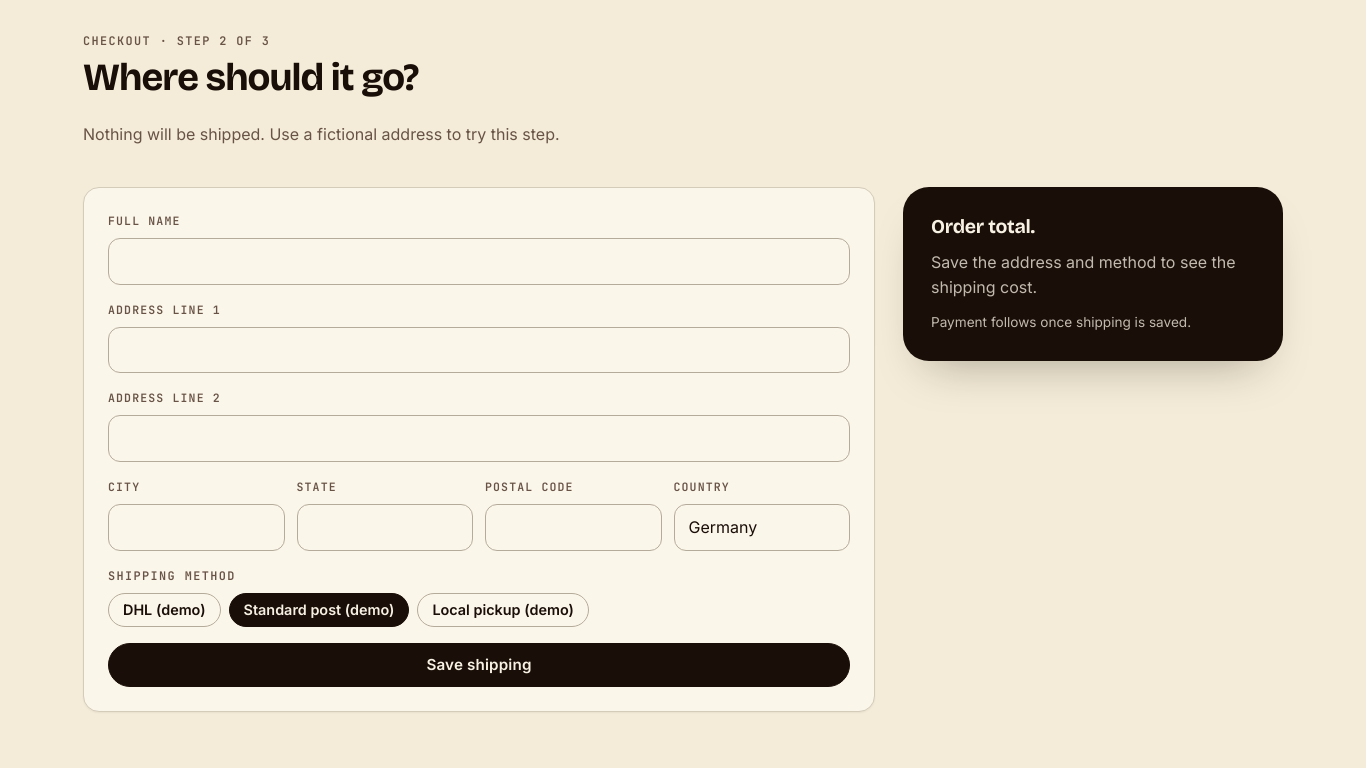
Test: shipping operation identity › does not execute A's second shipping request as B
The image size is (1366, 768).
Type "Demo Buyer" into the field labelled "Full name". click: (479, 261)
box: 108,238 -> 850,285
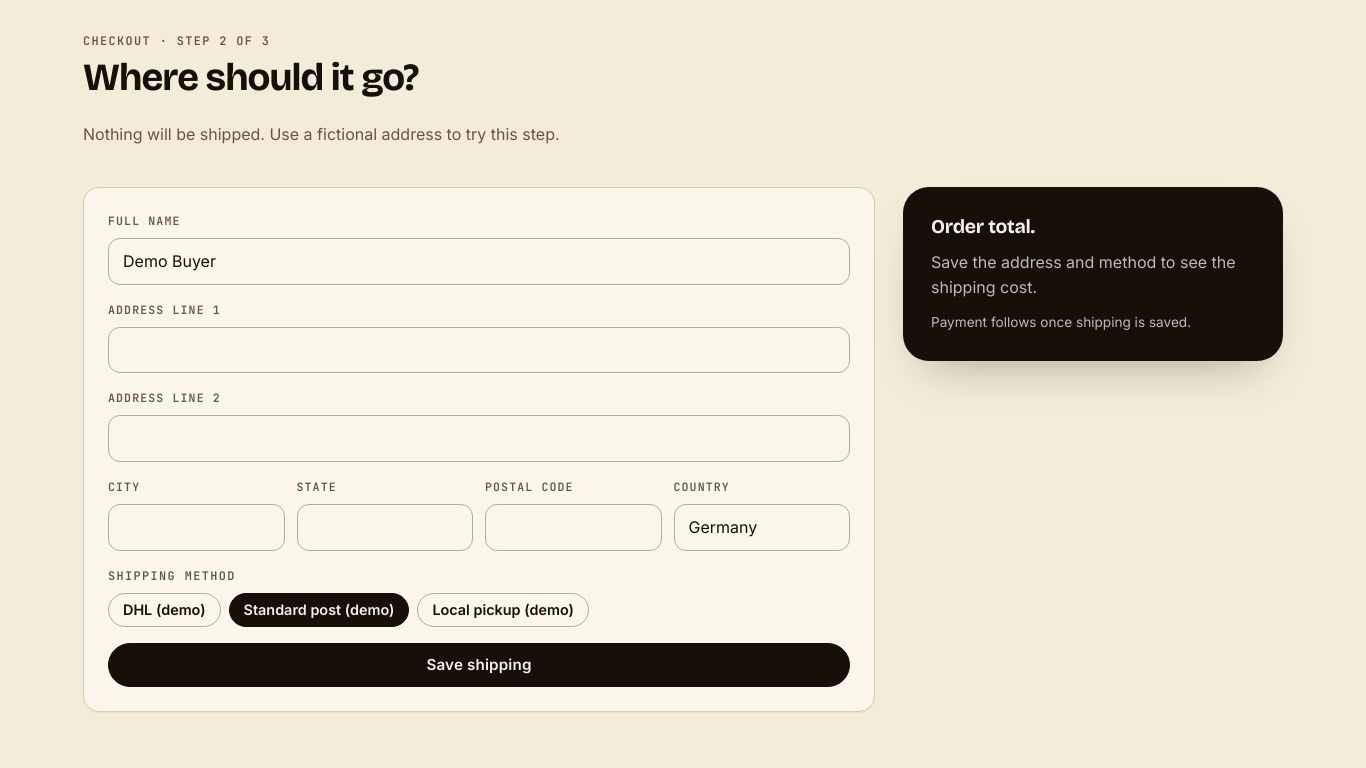
Type "Fictional Street 1" into the field labelled "Address line 1". click: (479, 350)
box: 108,327 -> 850,373
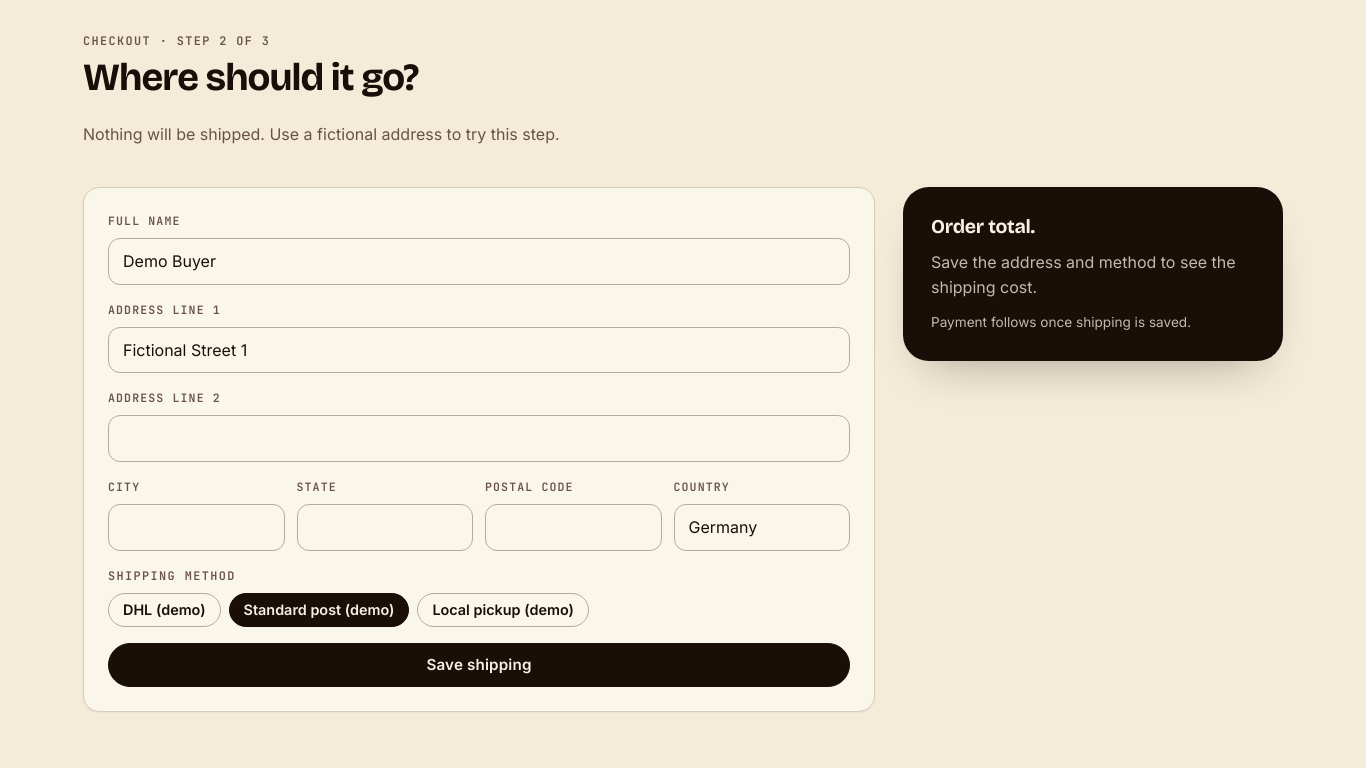
Type "Berlin" into the field labelled "City". click: (196, 527)
box: 108,504 -> 284,551
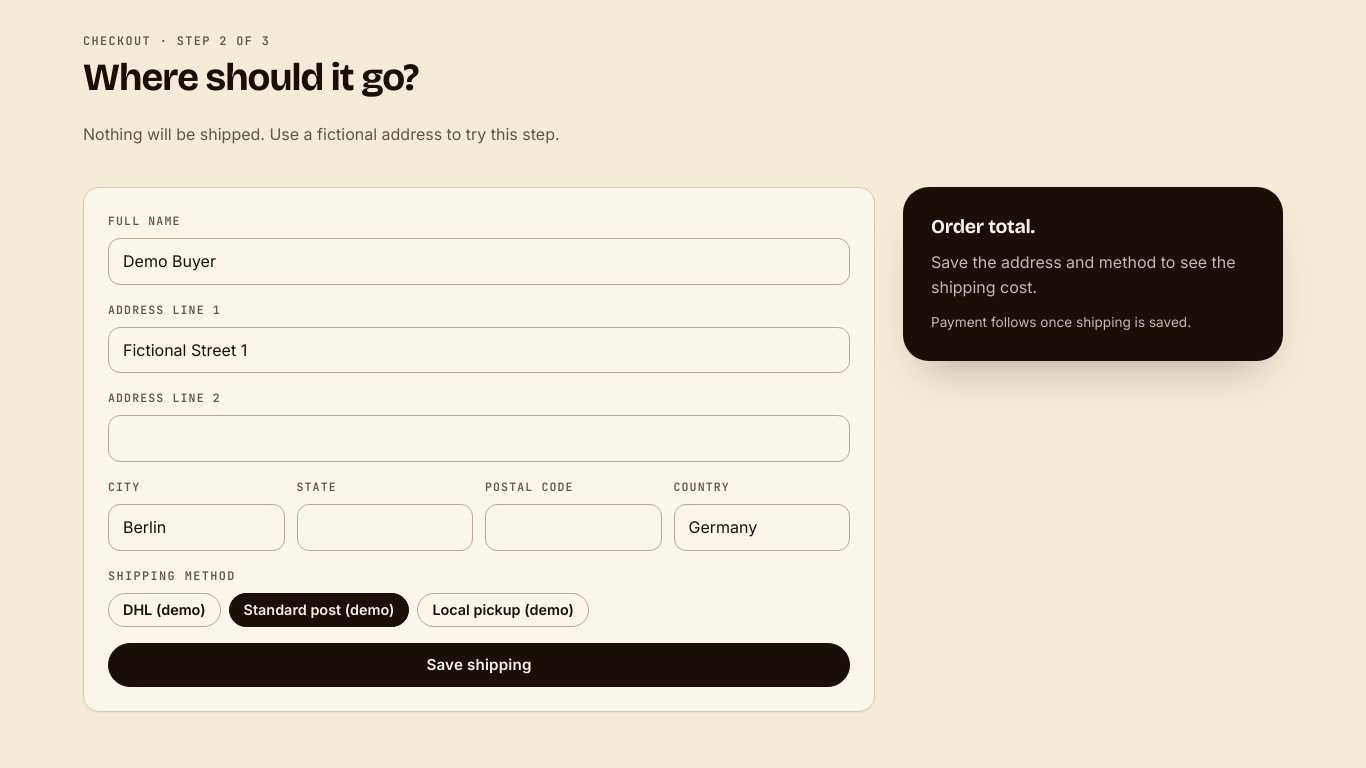
Type "Berlin" into the field labelled "State". click: (385, 527)
box: 296,504 -> 473,551
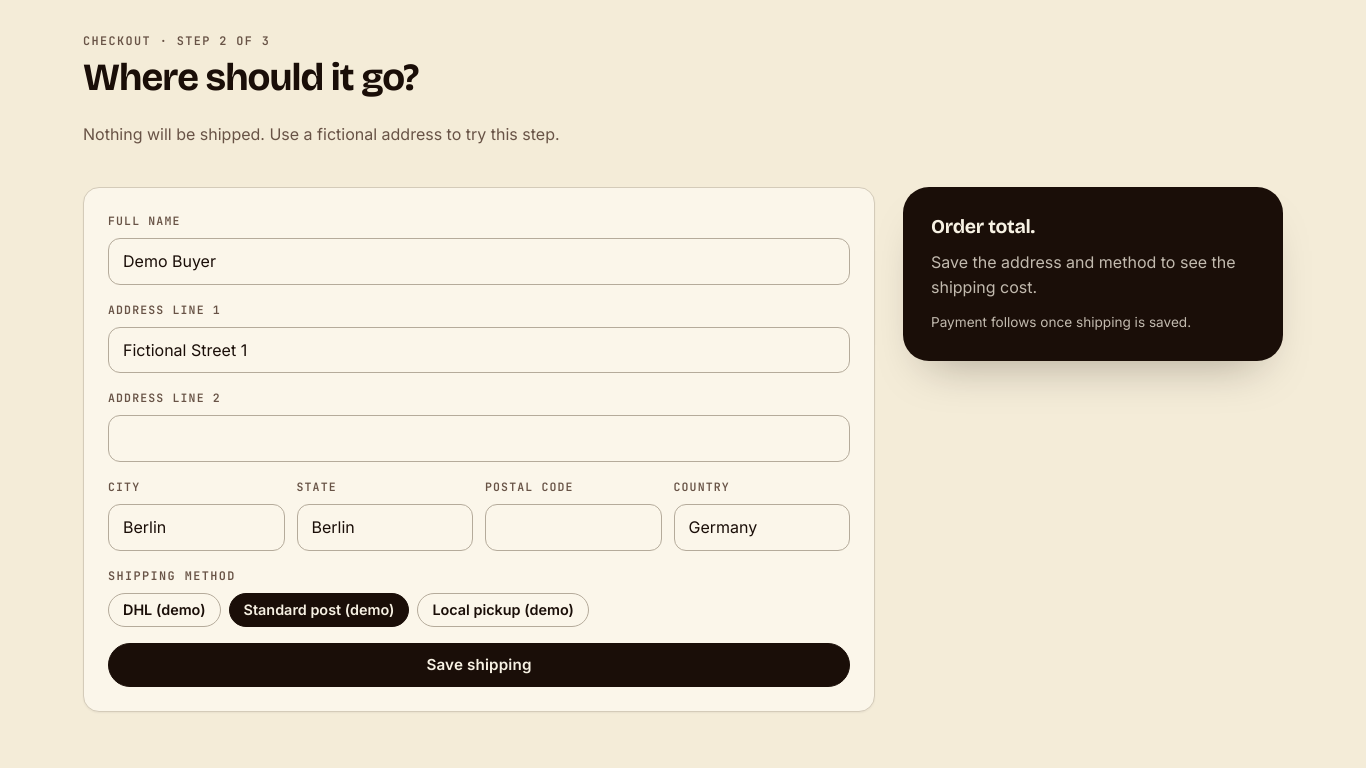
Type "10115" into the field labelled "Postal code". click: (573, 527)
box: 485,504 -> 662,551
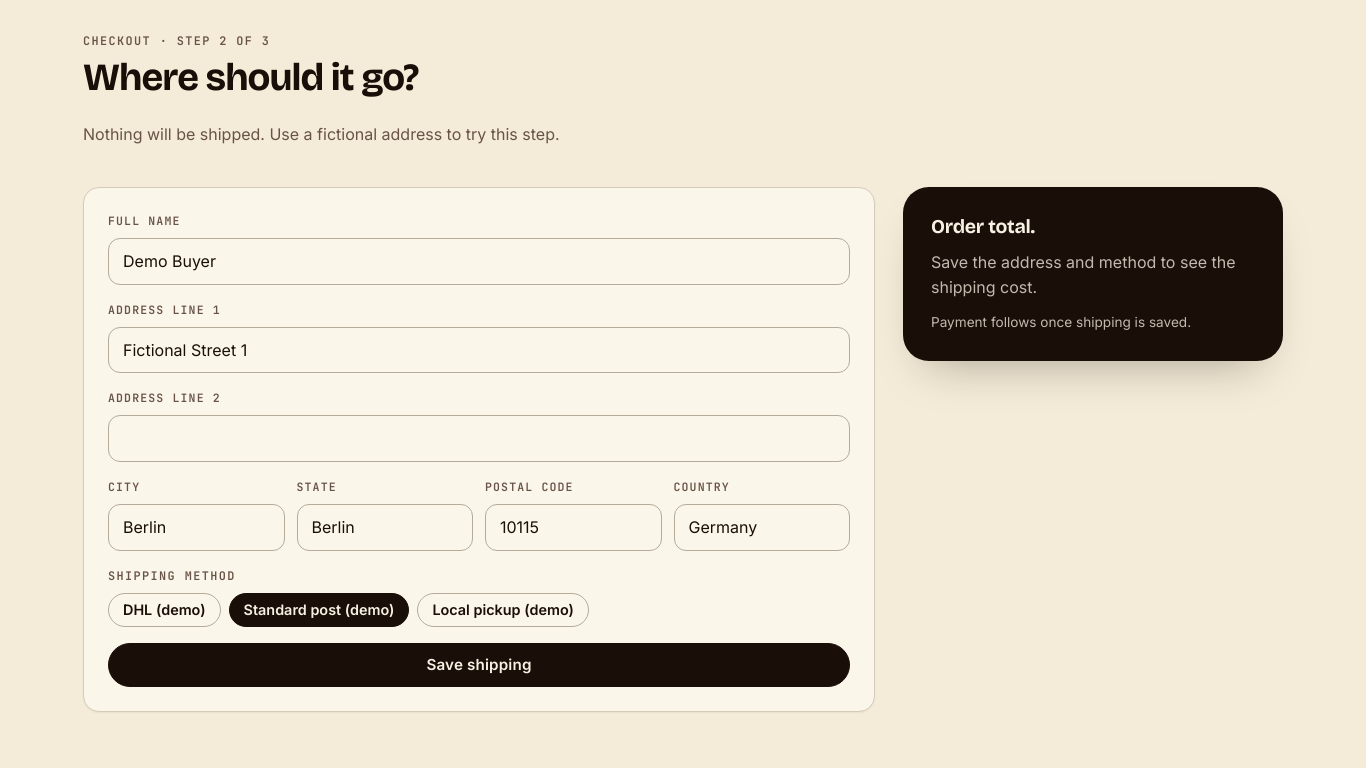
Click the button "Save shipping". click: (479, 665)
box: 108,643 -> 850,687
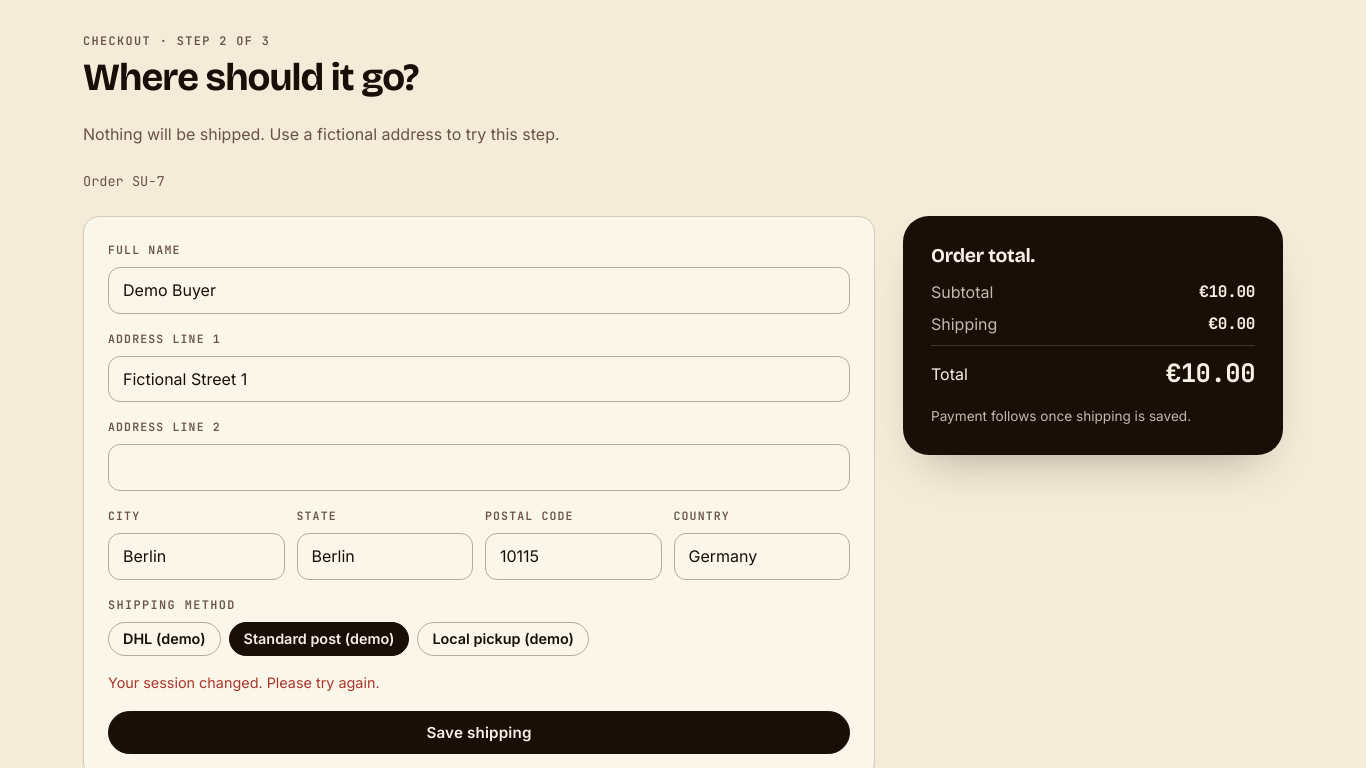
Expected: the text "Your session changed. Please try again." is shown, 108,674 -> 380,691
